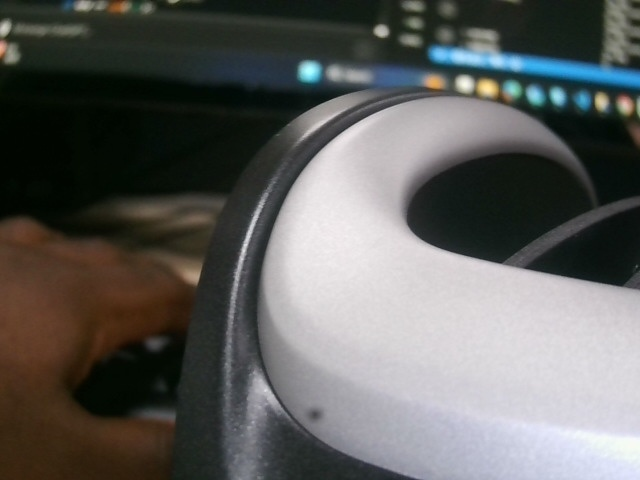NG: (347, 226, 389, 287), (264, 127, 290, 163)
